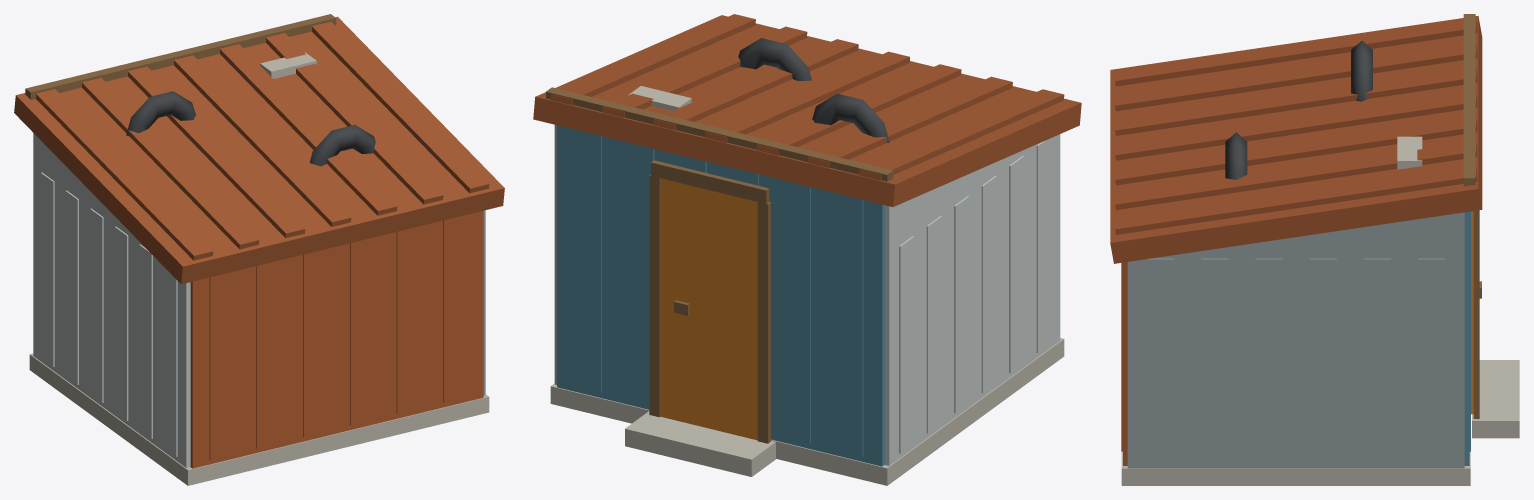
File: cabane-tole-a.glb
3 views of the same model, side by side, from view 1: azimuth 30°, elevation 25°; view 2: azimuth 150°, elevation 25°; view 3: azimuth 270°, elevation 25° (orthographic). The views are drawn at different scales.
Visible parts, largest first — view 1: mur (×3), toit-dalle, socle, nervures-3 (×2), nervures-0 (×2), nervures-2 (×2), nervures-1 (×2), nervures-4 (×2), nervures-5 (×2), toit-nerv-3, toit-nerv-6, toit-nerv-0 (+9 smaller); view 2: mur (×3), toit-dalle, porte-panneau, nervures-0 (×2), nervures-1 (×2), nervures-5 (×2), nervures-4 (×2), socle, seuil, toit-nerv-0, toit-nerv-3, toit-nerv-6 (+14 smaller); view 3: mur (×3), toit-dalle, socle, nervures-5 (×2), pignon-droit, toit-nerv-6, toit-nerv-0, nervures-0, nervures-2, nervures-3, nervures-4, toit-nerv-3 (+12 smaller).
Boxes of the visible parts, left/top/right/bottom form: mur (×3): left=33, top=161, right=485, bottom=468; toit-dalle: left=14, top=16, right=504, bottom=284; socle: left=29, top=353, right=489, bottom=485; nervures-3 (×2): left=114, top=226, right=373, bottom=425; nervures-0 (×2): left=41, top=172, right=233, bottom=460; nervures-2 (×2): left=90, top=208, right=327, bottom=437; nervures-1 (×2): left=65, top=190, right=280, bottom=448; nervures-4 (×2): left=139, top=226, right=420, bottom=438; nervures-5 (×2): left=164, top=214, right=467, bottom=456; toit-nerv-3: left=174, top=55, right=351, bottom=226; toit-nerv-6: left=312, top=21, right=489, bottom=193; toit-nerv-0: left=36, top=89, right=213, bottom=260; mur (×3): left=554, top=125, right=1060, bottom=466; toit-dalle: left=533, top=15, right=1081, bottom=206; porte-panneau: left=660, top=178, right=757, bottom=440; nervures-0 (×2): left=836, top=193, right=914, bottom=456; nervures-1 (×2): left=784, top=180, right=941, bottom=444; nervures-5 (×2): left=575, top=129, right=1051, bottom=393; nervures-4 (×2): left=627, top=142, right=1024, bottom=404; socle: left=550, top=338, right=1064, bottom=485; seuil: left=625, top=411, right=775, bottom=476; toit-nerv-0: left=859, top=89, right=1064, bottom=180; toit-nerv-3: left=705, top=51, right=909, bottom=142; toit-nerv-6: left=550, top=14, right=755, bottom=105; mur (×3): left=1123, top=211, right=1469, bottom=468; toit-dalle: left=1110, top=16, right=1482, bottom=263; socle: left=1121, top=451, right=1470, bottom=485; nervures-5 (×2): left=1147, top=211, right=1470, bottom=463; pignon-droit: left=1187, top=212, right=1464, bottom=253; toit-nerv-6: left=1115, top=166, right=1477, bottom=234; toit-nerv-0: left=1115, top=18, right=1477, bottom=86; nervures-0: left=1418, top=258, right=1445, bottom=463; nervures-2: left=1309, top=258, right=1336, bottom=463; nervures-3: left=1255, top=258, right=1282, bottom=463; nervures-4: left=1201, top=258, right=1228, bottom=463; toit-nerv-3: left=1115, top=92, right=1477, bottom=160.
Size of the model in its own units: 0.15 by 0.13 by 0.15.
